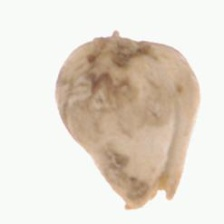L1: (124, 176, 179, 210), (96, 30, 153, 60)
L2: (54, 32, 201, 210)
